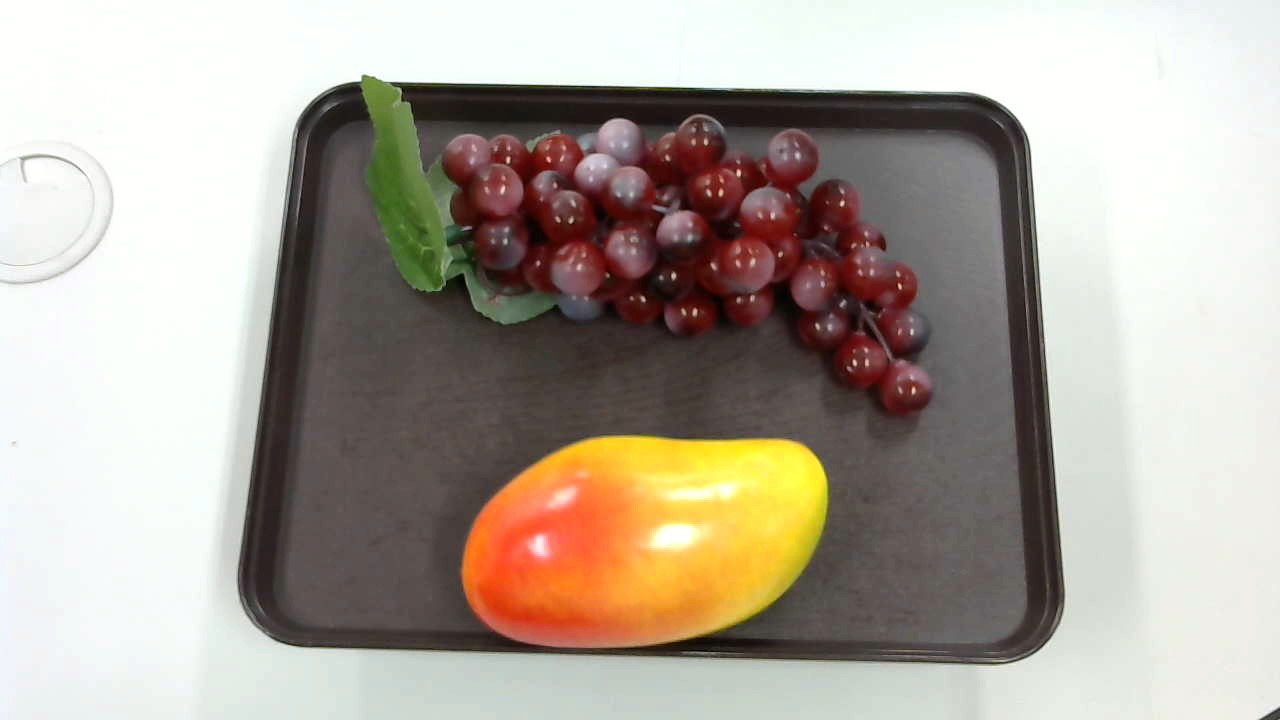grape: (351, 76, 951, 420)
red mango: (457, 432, 832, 652)
